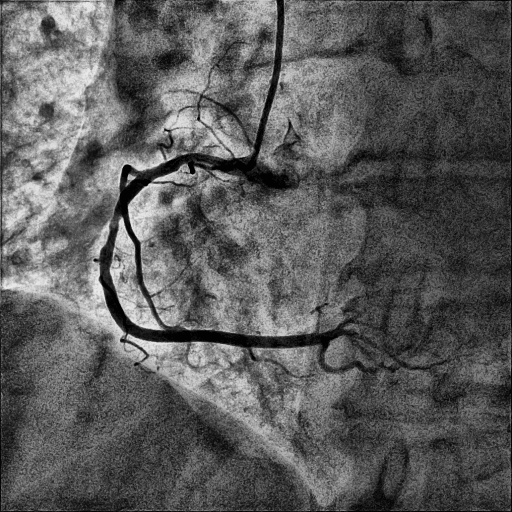pda: (317, 342, 365, 374)
rca: (99, 153, 331, 348)
